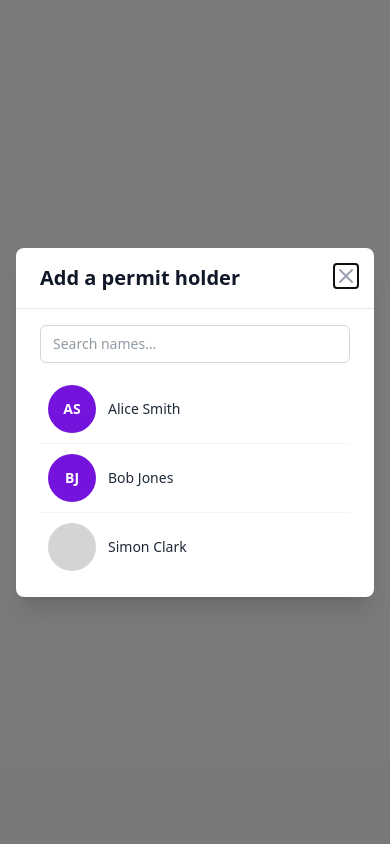
Scenario: AddPermitHolderModal › filters by search text
Type "ali" into the search field named "Search members".
click(195, 344); type("ali")  # box top-left (40, 324), bottom-right (350, 362)
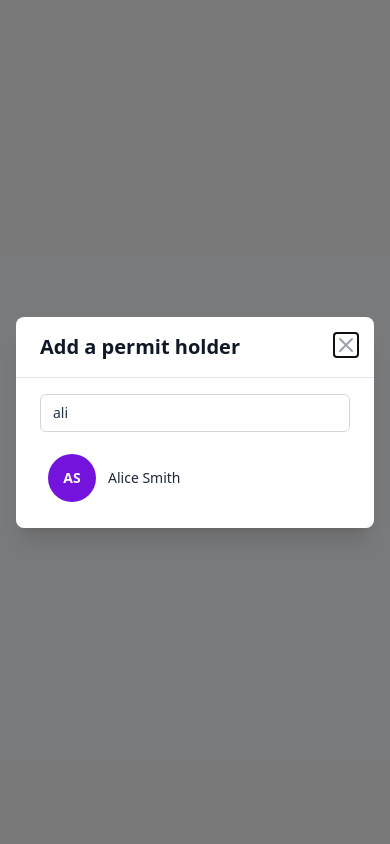
Expected: the text "Alice Smith" is shown, top-left (108, 468), bottom-right (180, 486)
Expected: the button "Bob Jones" is gone
Expected: the button "Simon Clark" is gone
